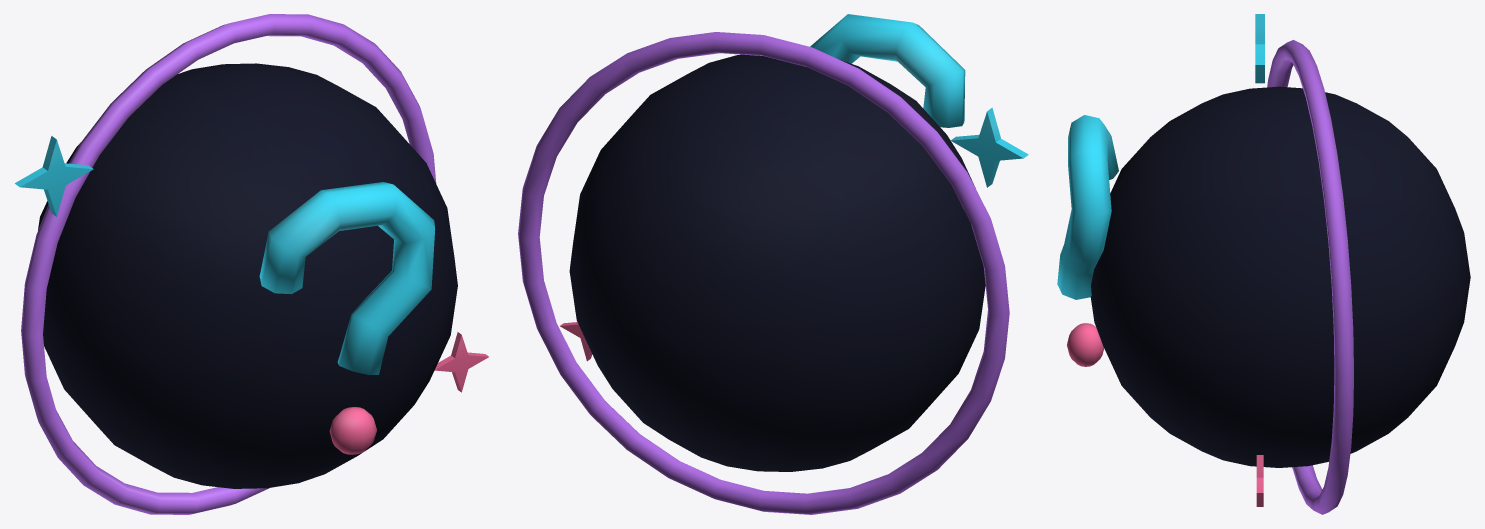
File: Mystery.fbx
The picture shows the model from 3 angles, left to right: view 1: azimuth 30°, elevation 25°; view 2: azimuth 150°, elevation 25°; view 3: azimuth 270°, elevation 25°; orthographic projection. The views are drawn at different scales.
Parts seen in each view (by area): view 1: Mystery; view 2: Mystery; view 3: Mystery.
Part boxes in pixels (x1,y1,x2,y2): Mystery: [15, 14, 488, 514]; Mystery: [518, 14, 1028, 514]; Mystery: [1057, 14, 1470, 514].
Bounding box in the file's own units: 2.8 × 2.74 × 2.38.
Materials: 1 (1 with a texture image).
